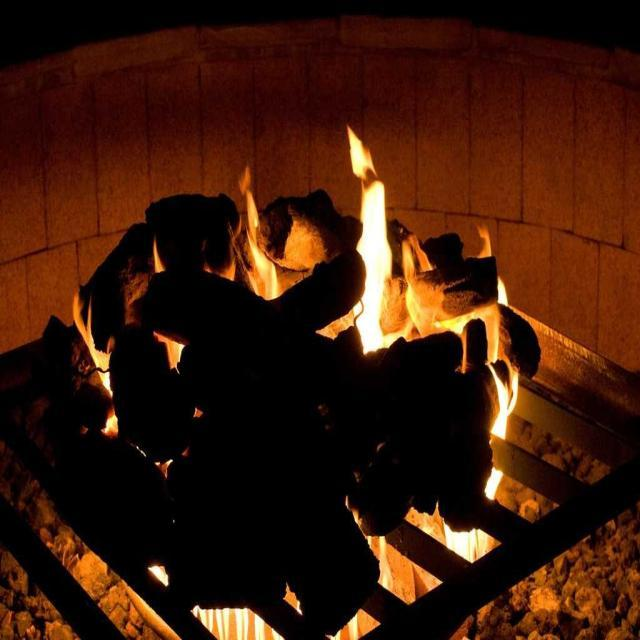Fire: (338, 118, 403, 362), (477, 282, 527, 488)
